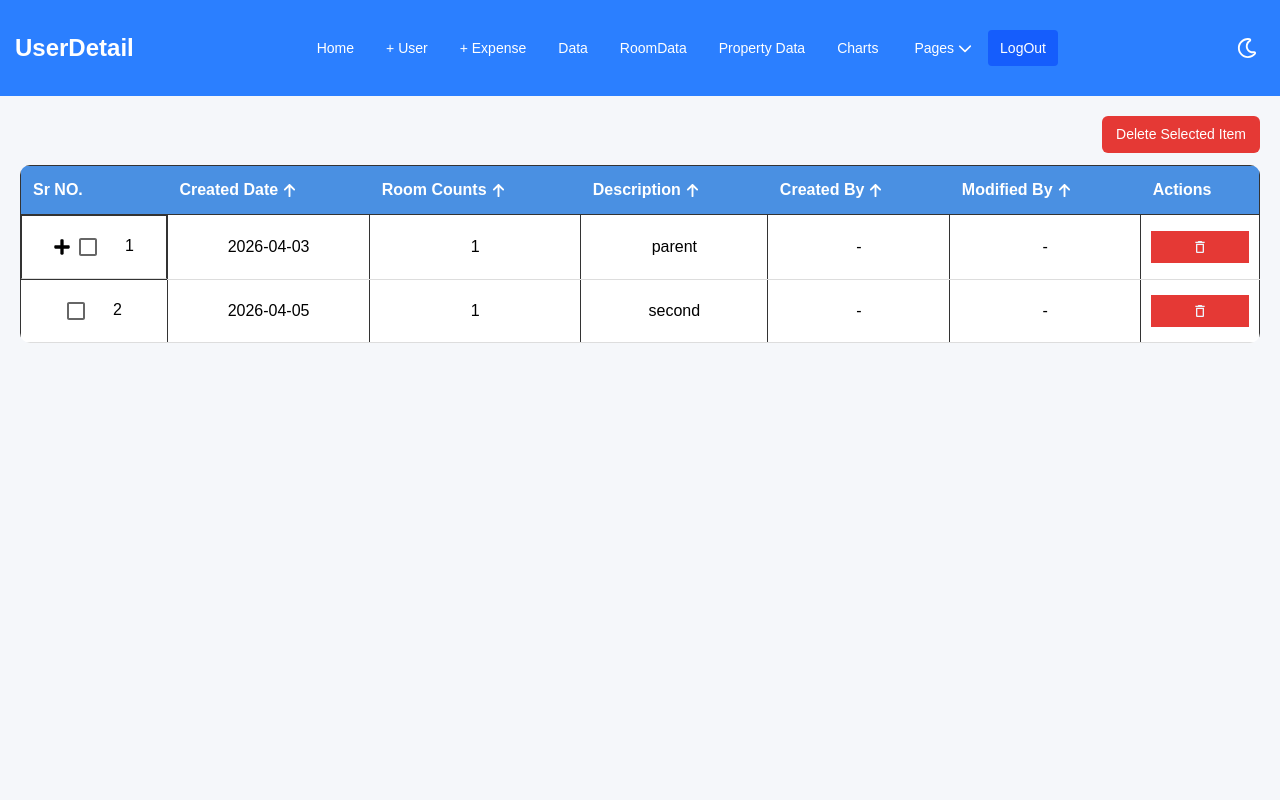
Room Data Component › parent row single delete
Expected: the text "parent" is shown, top-left (581, 214), bottom-right (768, 280)
Click the button with test id "parentDltBtn" in the row of "2026-04-03".
click(1200, 247)  # box top-left (1151, 231), bottom-right (1249, 263)
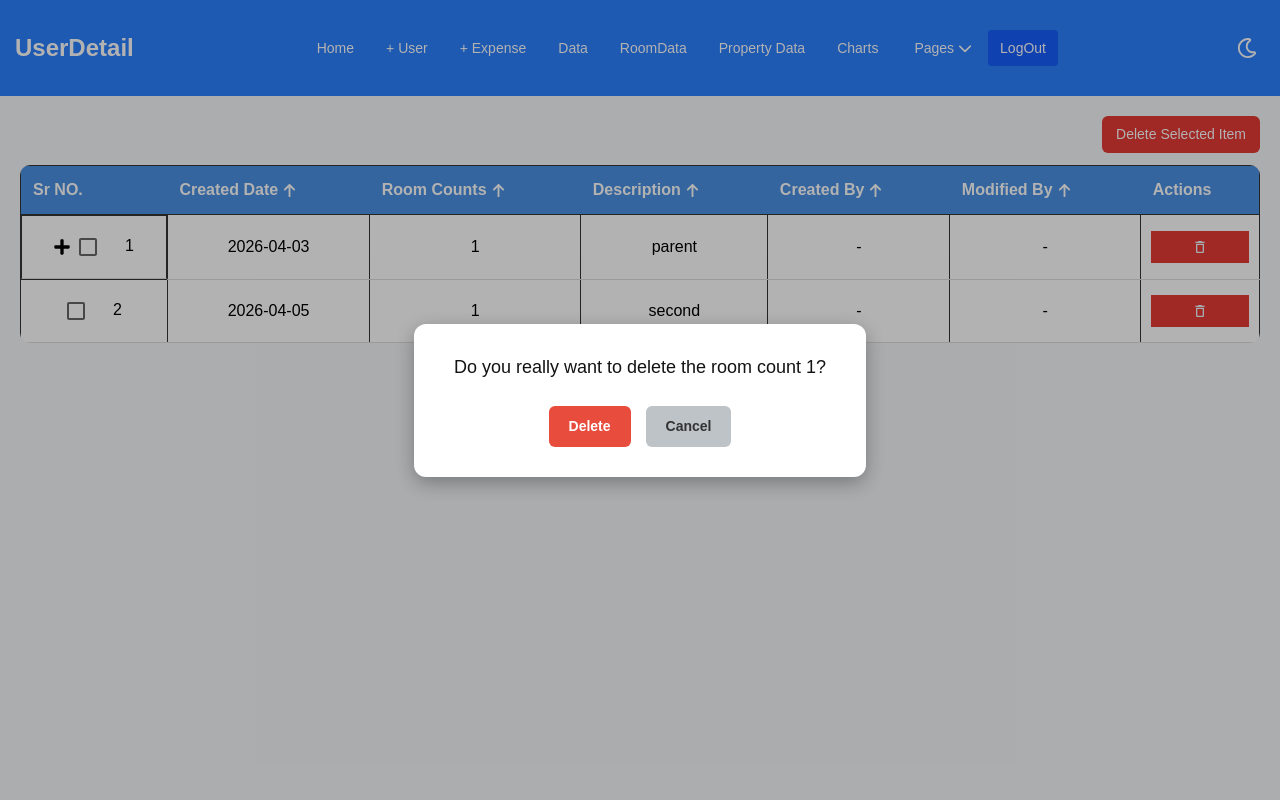
Click the button "Delete".
click(590, 426)  # box top-left (548, 406), bottom-right (630, 446)
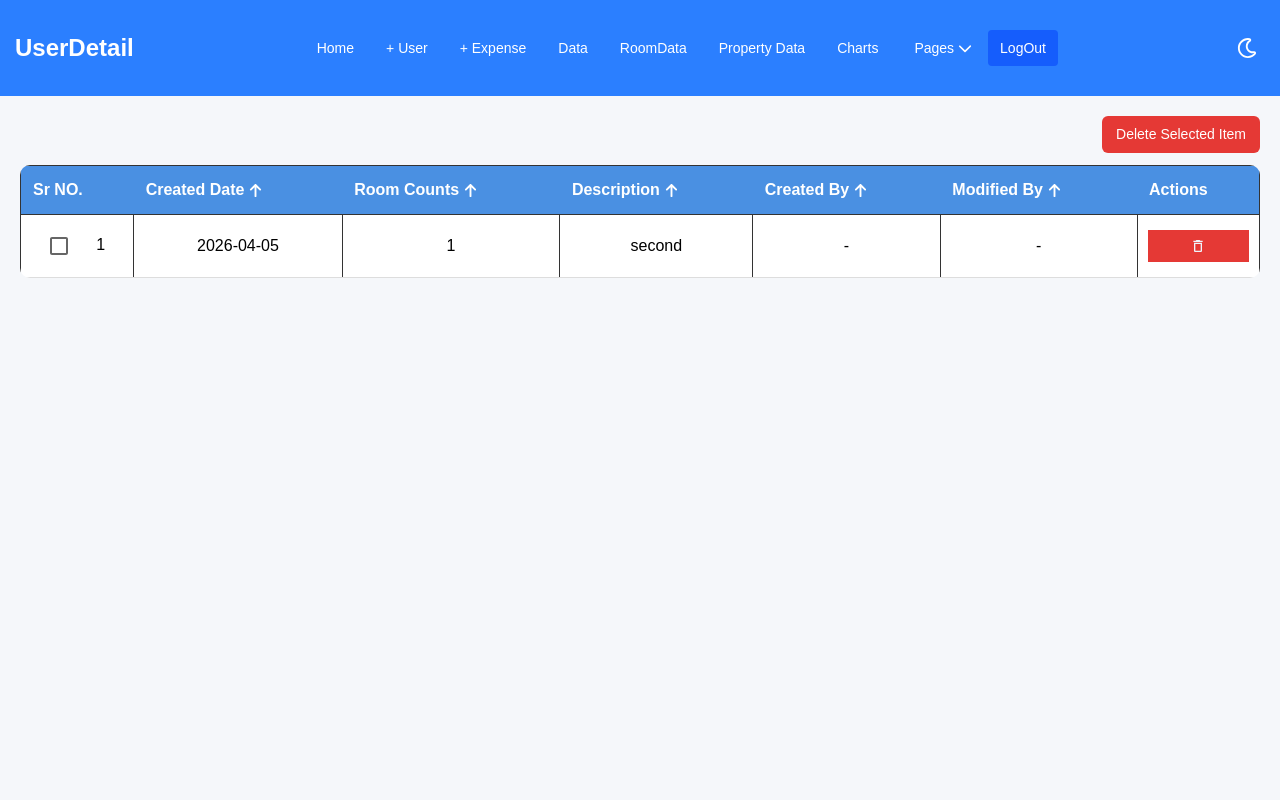
Expected: the text "parent" is gone
